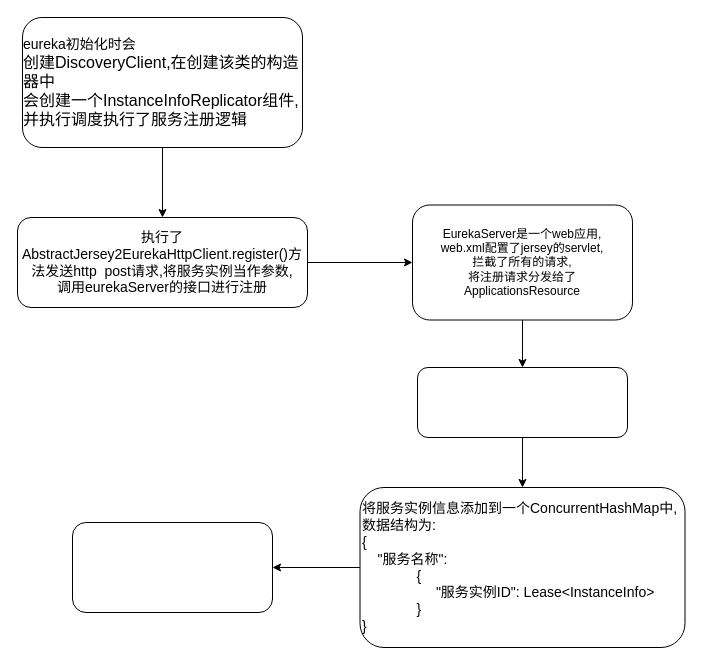
Some shapes in this 703 by 665 pixel diagram are drawn without their labels. The shapes that lost their labels are listed below. From the top down, each one's centre as x and y in pixels, then its label:
At [522,402]: "将注册请求转发到ApplicationResource的addInstance()方法进行注册".
At [172,567]: "访问EurekaServer控制台返回的status.jsp,显示的服务信息就是从这个map中获取的".
